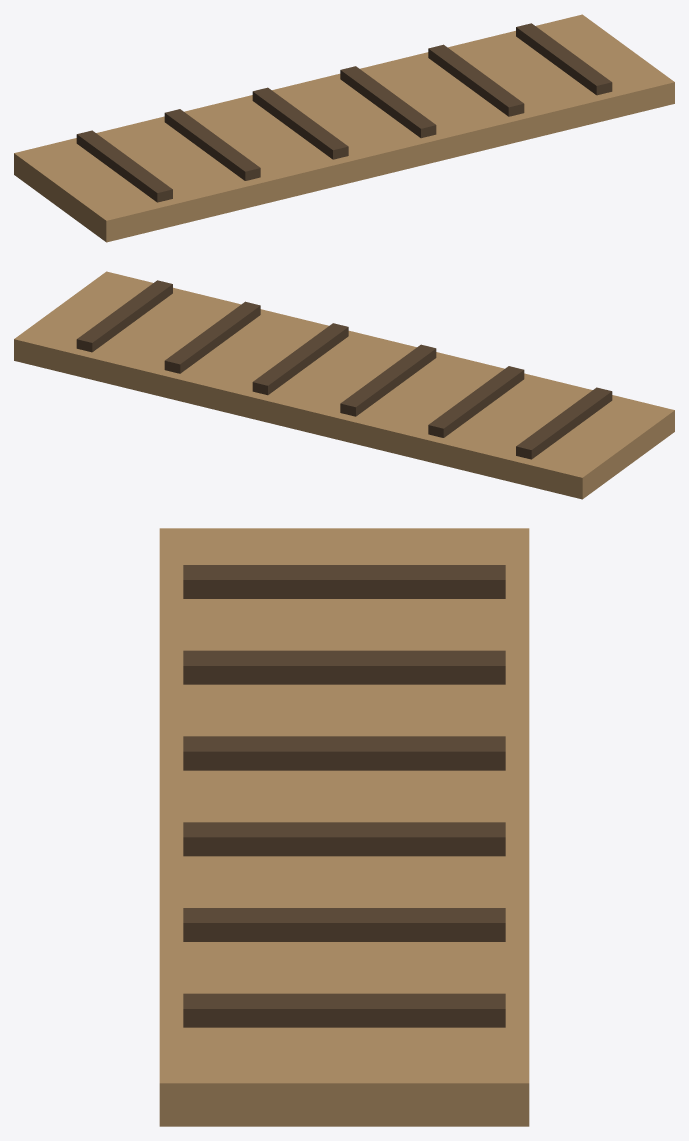
The model's file is quay-gangplank.glb.
The picture shows the model from 3 angles, top to bottom: view 1: azimuth 30°, elevation 25°; view 2: azimuth 150°, elevation 25°; view 3: azimuth 270°, elevation 25°; orthographic projection. The views are drawn at different scales.
Parts seen in each view (by area): view 1: quay-gangplank; view 2: quay-gangplank; view 3: quay-gangplank.
Boxes of the visible parts, left/top/right/bottom form: quay-gangplank: left=14, top=14, right=674, bottom=242; quay-gangplank: left=14, top=271, right=674, bottom=499; quay-gangplank: left=159, top=528, right=529, bottom=1126.
Bounding box in the file's own units: 2.2 × 0.115 × 0.62.
1 material, 1 textured.
